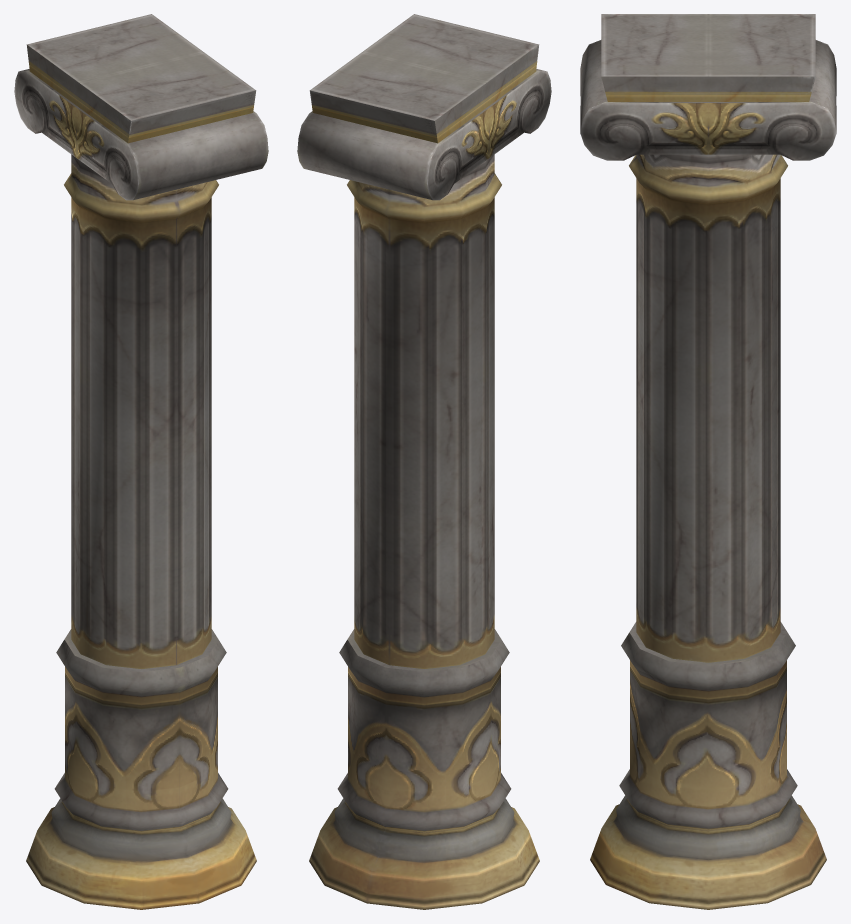
File: Main_Pillars_03.FBX
3 renders of one model, left to right at view 1: azimuth 30°, elevation 25°; view 2: azimuth 150°, elevation 25°; view 3: azimuth 270°, elevation 25°, orthographic. The views are drawn at different scales.
Parts seen in each view (by area): view 1: Main_Pillars_03; view 2: Main_Pillars_03; view 3: Main_Pillars_03.
Part boxes in pixels (x1,y1,x2,y2): Main_Pillars_03: (14,14,268,909); Main_Pillars_03: (297,14,551,909); Main_Pillars_03: (580,14,836,909).
Bounding box in the file's own units: 1.71 × 6.49 × 1.85.
